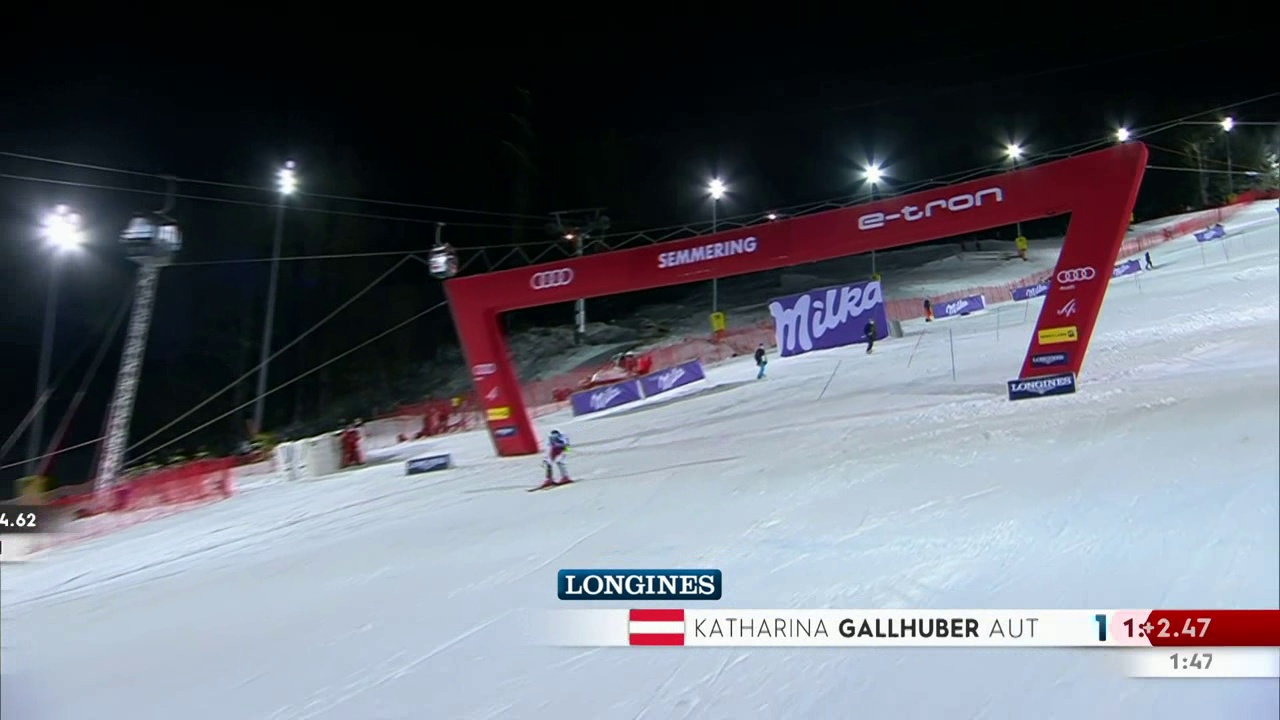audi: (521, 265, 582, 296), (1057, 263, 1100, 288)
longines: (546, 566, 728, 604), (1005, 375, 1078, 401)
milka: (773, 280, 888, 358)
